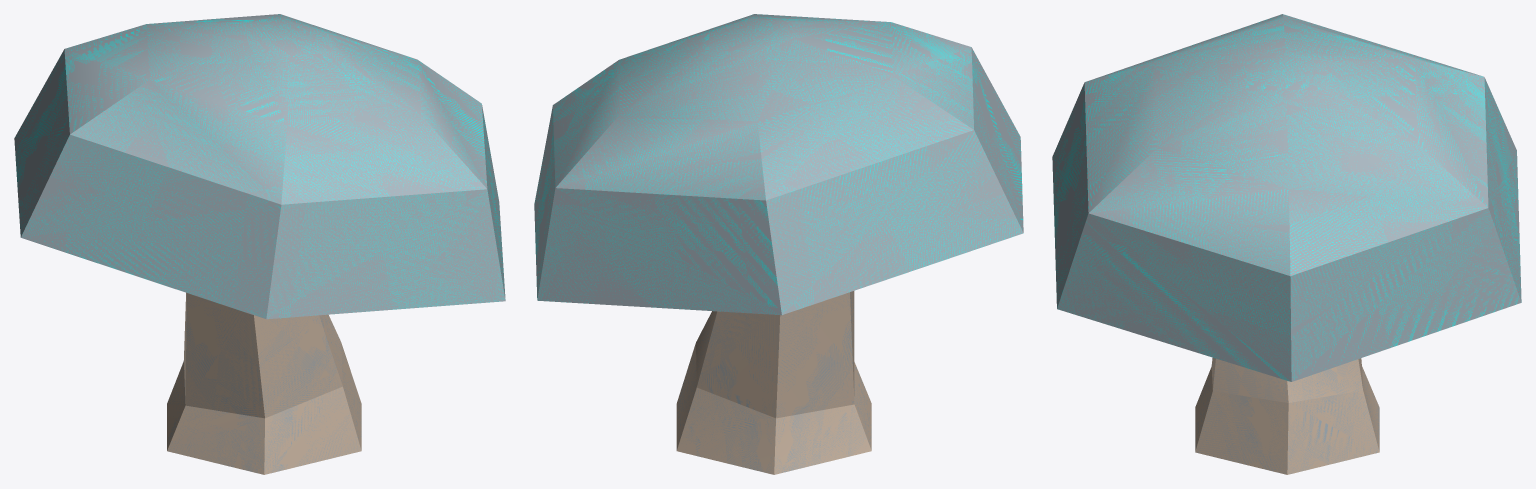
The model's file is Mushroom_10.fbx.
3 views of the same model, side by side, from view 1: azimuth 30°, elevation 25°; view 2: azimuth 150°, elevation 25°; view 3: azimuth 270°, elevation 25° (orthographic). The views are drawn at different scales.
Visible parts, largest first — view 1: Model; view 2: Model; view 3: Model.
Boxes of the visible parts, x1,y1,x2,y2 form: Model: (14,14,505,474); Model: (534,14,1023,474); Model: (1052,14,1521,474).
Bounding box in the file's own units: 60.27 × 46.65 × 53.46.
